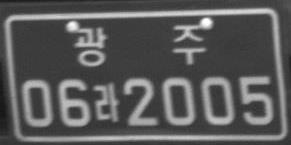0: (160, 75, 197, 127), (199, 75, 236, 127), (20, 79, 55, 128)
2: (122, 76, 159, 127)
5: (237, 75, 276, 127)
6: (56, 77, 92, 128)
광주_D: (72, 23, 207, 67)
라: (93, 81, 119, 122)
